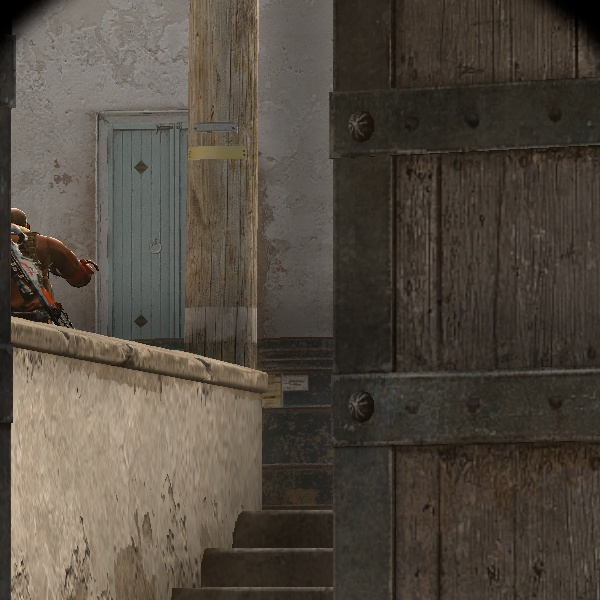t_body: (2, 200, 80, 328)
t_head: (2, 203, 39, 253)
